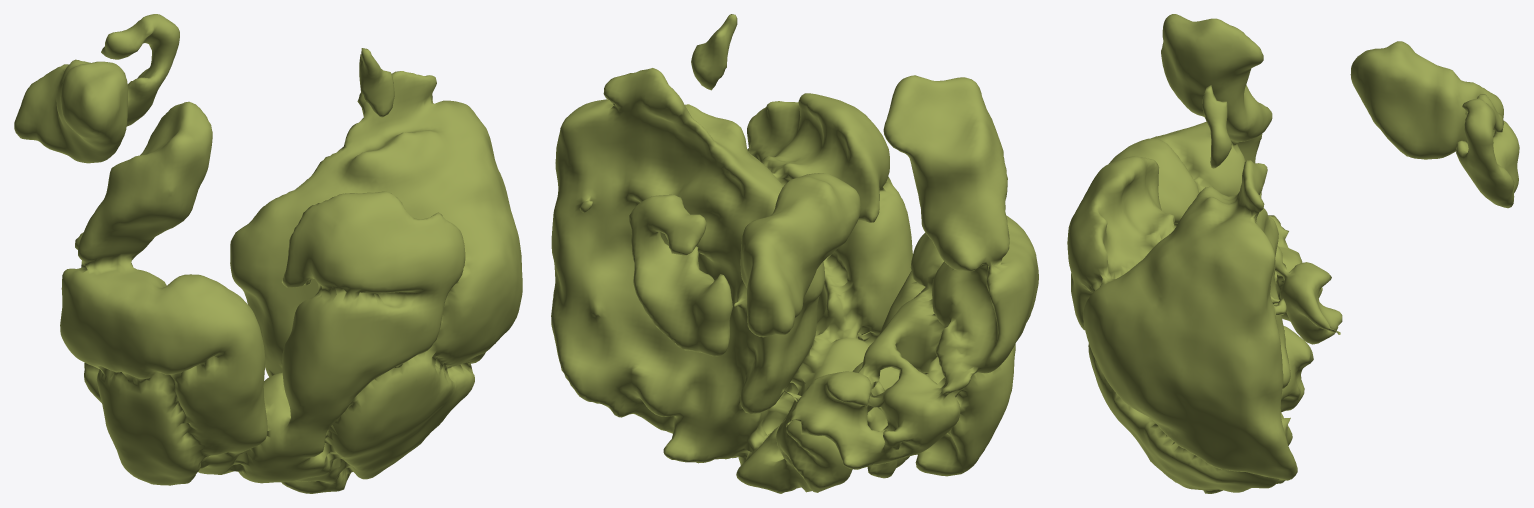
The model's file is Pat2_Mav_Intestines.fbx.
3 views of the same model, side by side, from view 1: azimuth 30°, elevation 25°; view 2: azimuth 150°, elevation 25°; view 3: azimuth 270°, elevation 25° (orthographic). The views are drawn at different scales.
Visible parts, largest first — view 1: Seg_Intestine; view 2: Seg_Intestine; view 3: Seg_Intestine.
Boxes of the visible parts, <box> form: Seg_Intestine: <box>14,14,522,493</box>; Seg_Intestine: <box>551,14,1038,493</box>; Seg_Intestine: <box>1067,14,1519,493</box>.
Size of the model in its own units: 81.27 by 77.8 by 75.76.
